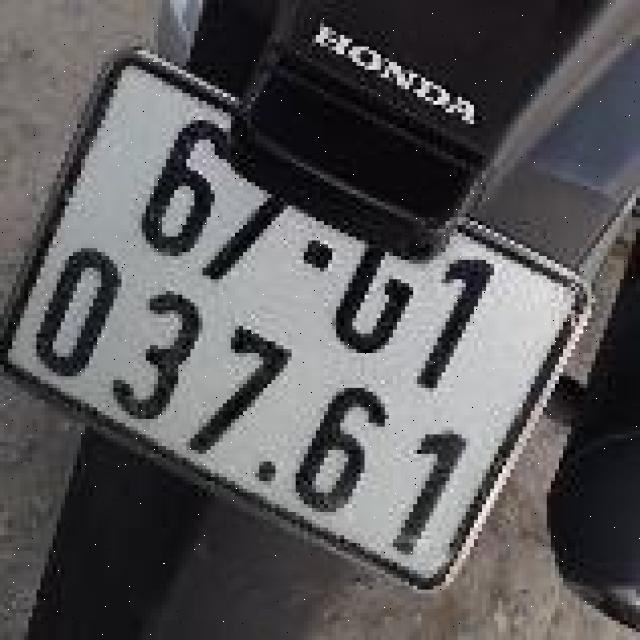0: (23, 229, 144, 393)
1: (392, 240, 516, 407), (370, 409, 483, 569)
3: (100, 277, 225, 430)
6: (115, 100, 265, 270), (278, 370, 416, 525)
7: (188, 136, 332, 307), (164, 314, 310, 471)
G: (317, 201, 462, 379)
